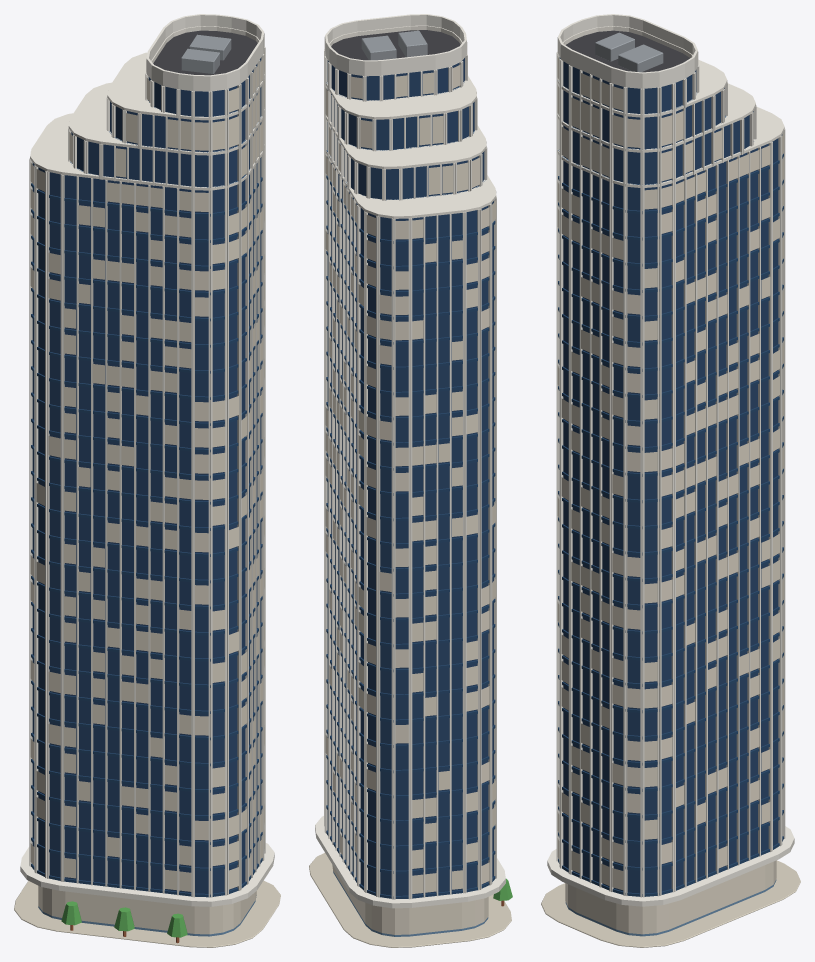
Rendered from millennium-tower.glb.
3 views of the same model, side by side, from view 1: azimuth 30°, elevation 25°; view 2: azimuth 150°, elevation 25°; view 3: azimuth 270°, elevation 25° (orthographic). The views are drawn at different scales.
Visible parts, largest first — view 1: millennium-tower_body, millennium-tower_night_glow; view 2: millennium-tower_body, millennium-tower_night_glow; view 3: millennium-tower_body, millennium-tower_night_glow.
Part boxes in pixels (box(x1,y1,x2,y2)): millennium-tower_body: box(14, 14, 280, 947); millennium-tower_night_glow: box(30, 34, 264, 934); millennium-tower_body: box(309, 14, 512, 947); millennium-tower_night_glow: box(324, 37, 495, 934); millennium-tower_body: box(541, 14, 800, 947); millennium-tower_night_glow: box(557, 39, 784, 934).
Bounding box in the file's own units: 53.28 × 197 × 53.48.
